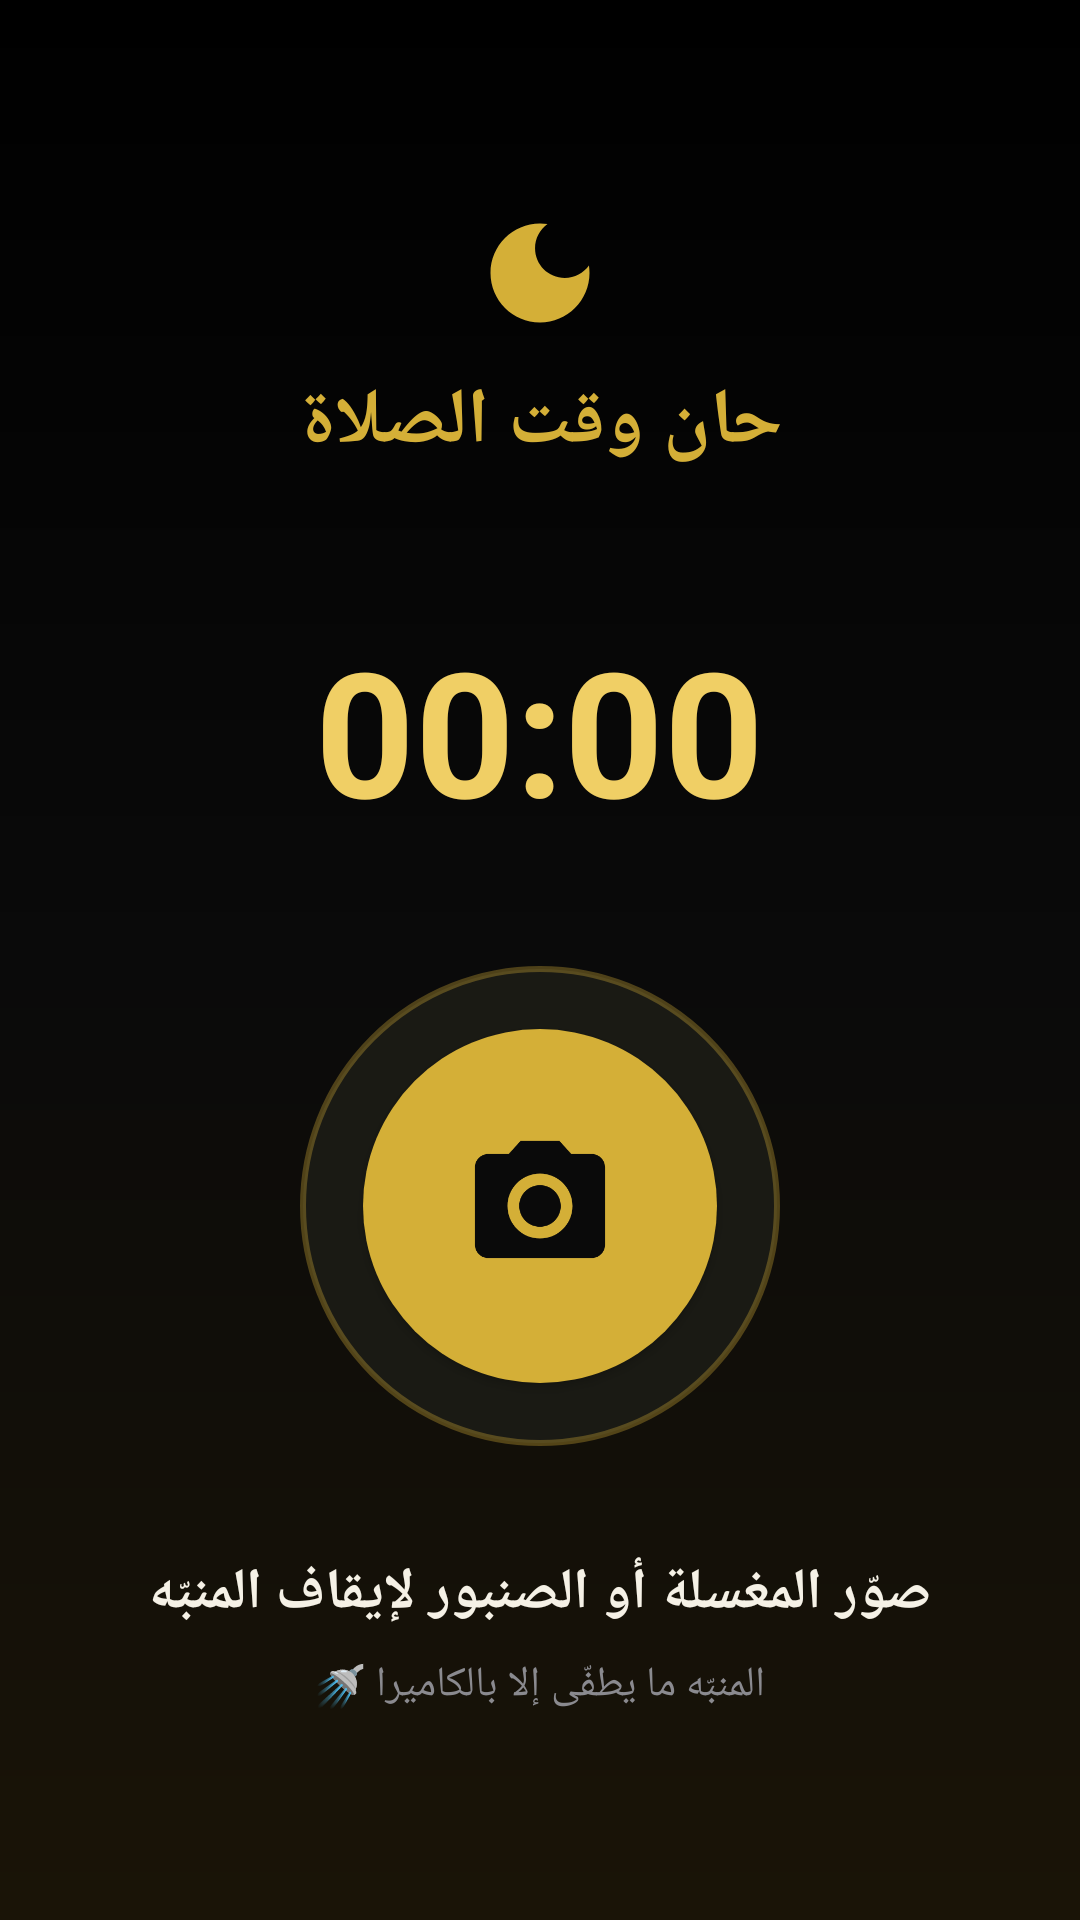

Screen size 1080px x 1920px. Icon name, then its center in pixels as [x,y]:
moon: [540,273]
افتح الكاميرا: [540,1206]
